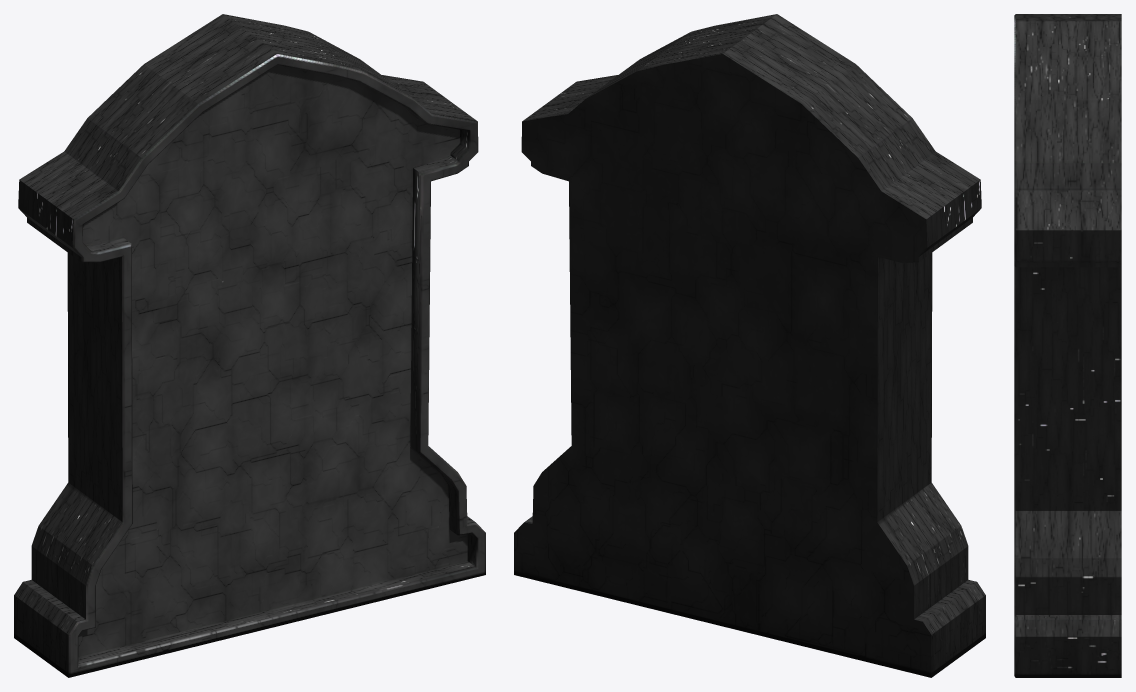
File: Grave1Backup.fbx
3 views of the same model, side by side, from view 1: azimuth 30°, elevation 25°; view 2: azimuth 150°, elevation 25°; view 3: azimuth 270°, elevation 25° (orthographic). The views are drawn at different scales.
Parts seen in each view (by area): view 1: Extrude_6.002; view 2: Extrude_6.002; view 3: Extrude_6.002.
Part boxes in pixels (x1,y1,x2,y2): Extrude_6.002: [14, 14, 485, 677]; Extrude_6.002: [514, 14, 985, 677]; Extrude_6.002: [1014, 14, 1121, 677].
Size of the model in its own units: 88.57 by 116 by 20.3.
Materials: 1 (1 with a texture image).
